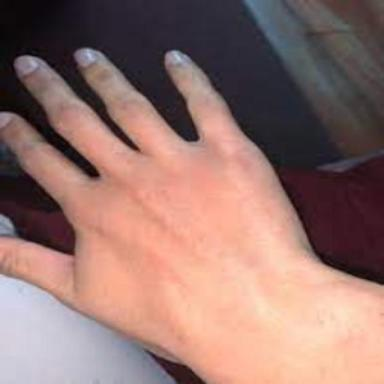normal skin: (0, 49, 384, 384)
